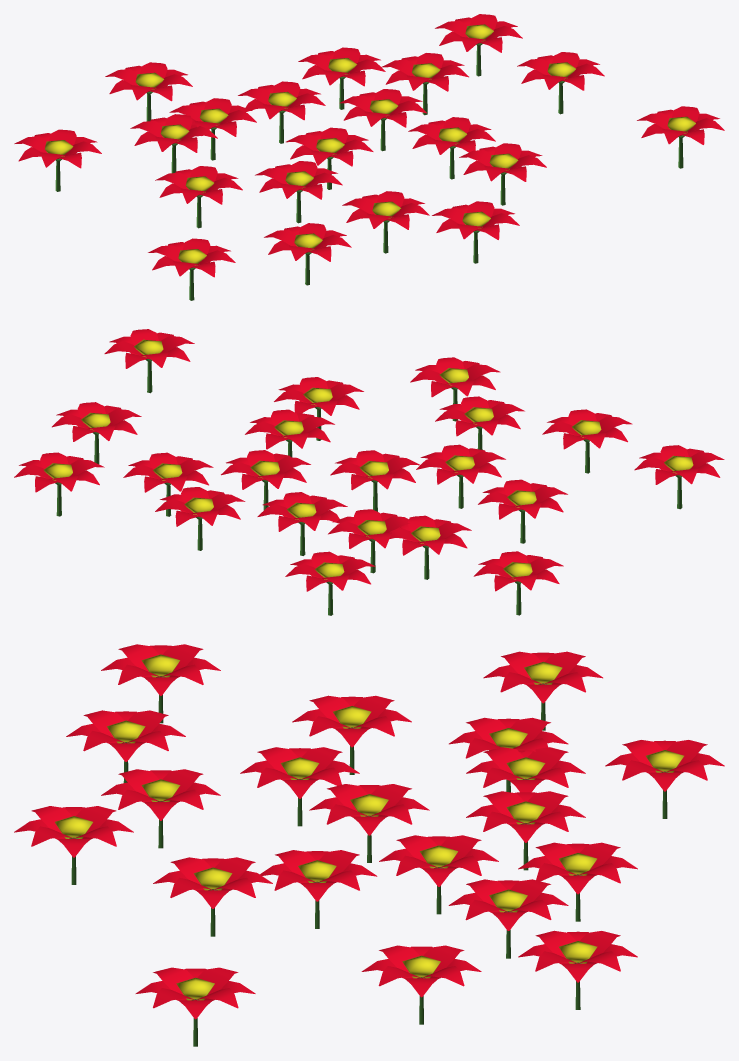
Rendered from redflowergroup.glb.
3 renders of one model, top to bottom at view 1: azimuth 30°, elevation 25°; view 2: azimuth 150°, elevation 25°; view 3: azimuth 270°, elevation 25°, orthographic. The views are drawn at different scales.
Parts seen in each view (by area): view 1: RedFlowerGroup; view 2: RedFlowerGroup; view 3: RedFlowerGroup.
Boxes of the visible parts, left/top/right/bottom form: RedFlowerGroup: left=14, top=14, right=724, bottom=300; RedFlowerGroup: left=14, top=329, right=724, bottom=615; RedFlowerGroup: left=14, top=644, right=724, bottom=1046.
Bounding box in the file's own units: 5.09 × 0.4067 × 4.09.
